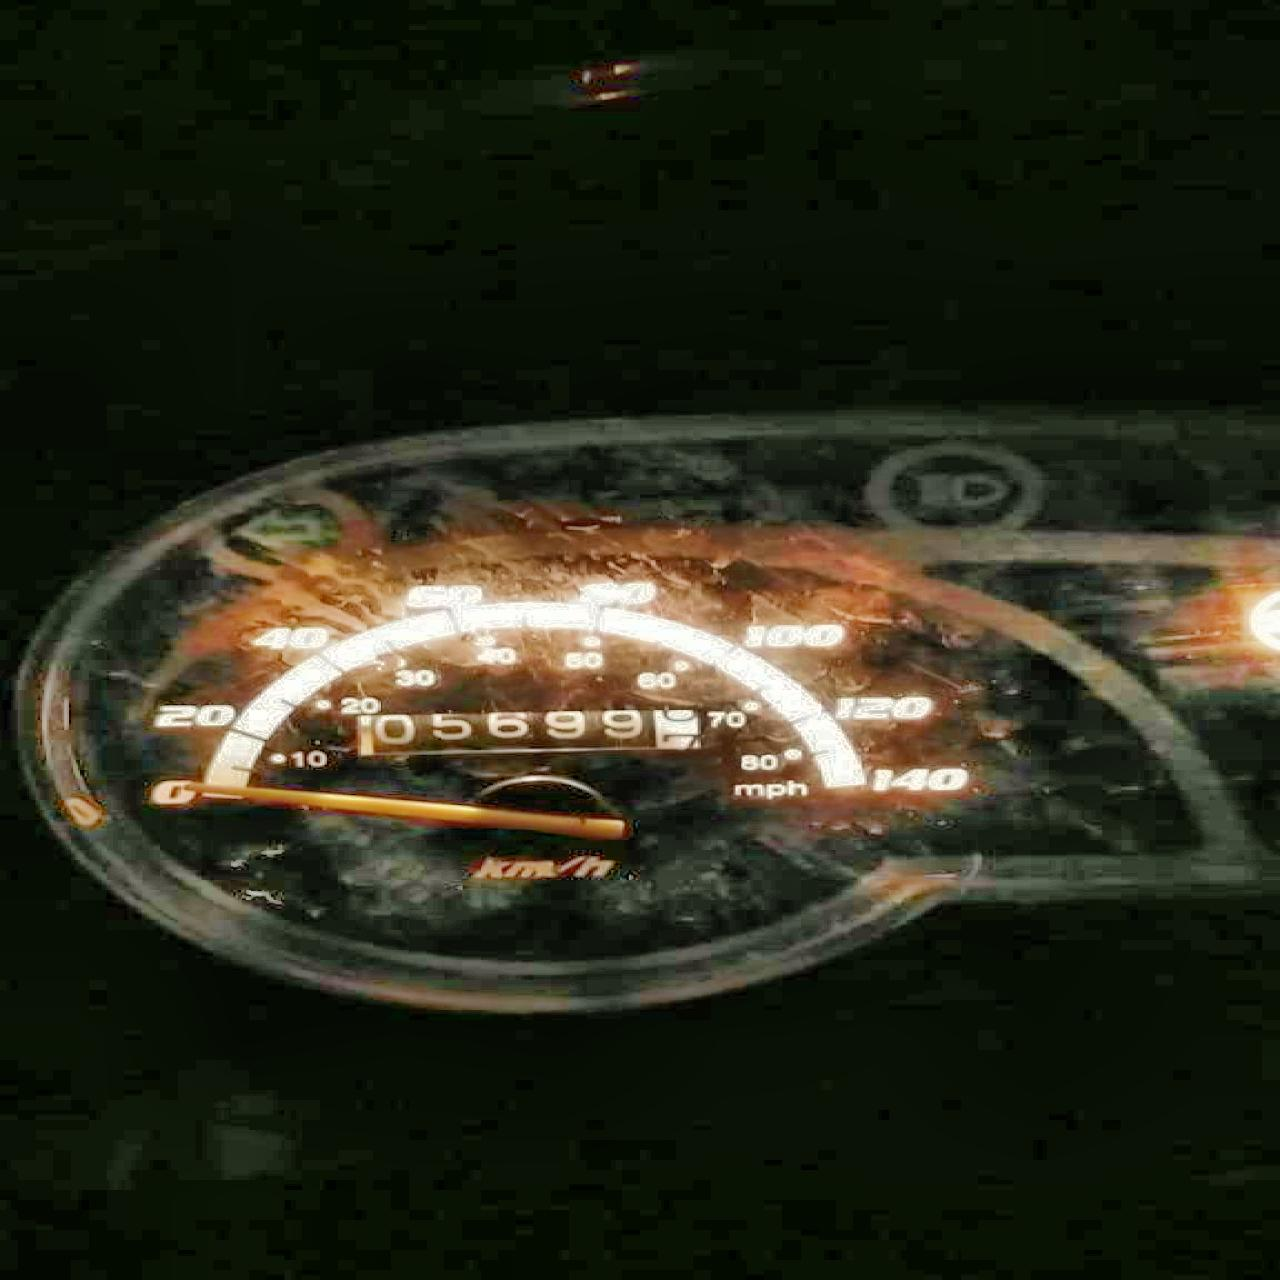0: (372, 712, 416, 748)
5: (424, 710, 476, 744)
6: (479, 708, 533, 742)
7: (653, 726, 700, 754)
9: (598, 710, 642, 741), (545, 710, 585, 740)
odometer: (352, 706, 707, 755)
